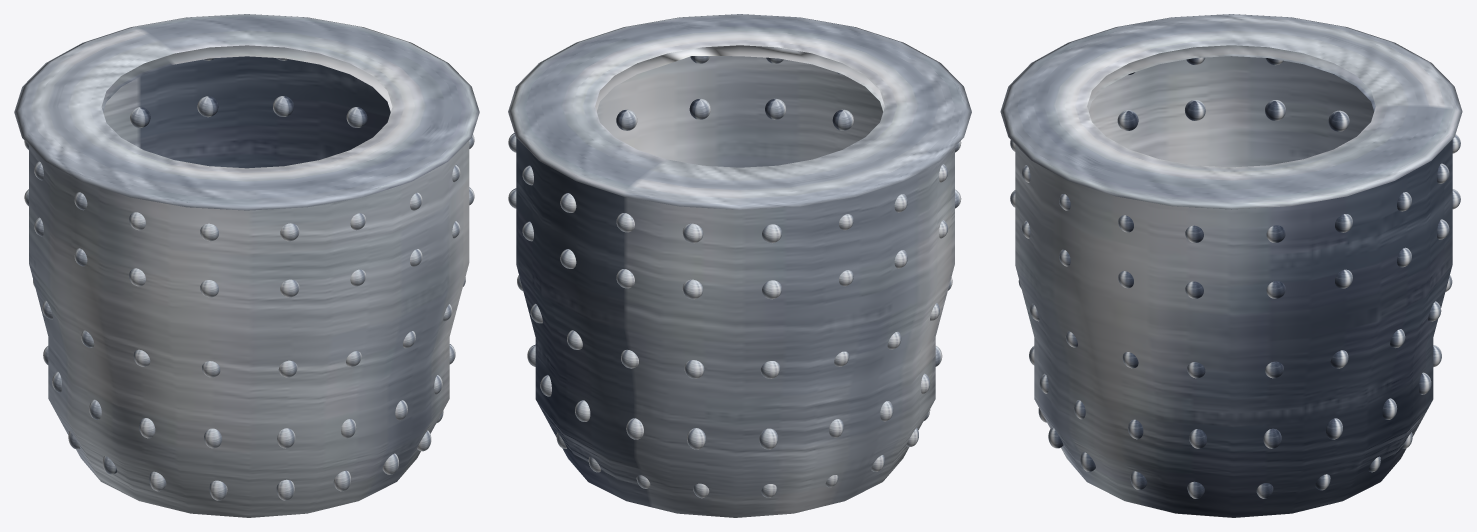
File: thimble.FBX
The picture shows the model from 3 angles, left to right: view 1: azimuth 30°, elevation 25°; view 2: azimuth 150°, elevation 25°; view 3: azimuth 270°, elevation 25°; orthographic projection.
Visible parts, largest first — view 1: Torus001; view 2: Torus001; view 3: Torus001.
Boxes of the visible parts, left/top/right/bottom form: Torus001: left=14, top=14, right=479, bottom=517; Torus001: left=508, top=14, right=971, bottom=517; Torus001: left=1000, top=14, right=1462, bottom=517.
Bounding box in the file's own units: 6.59 × 5.33 × 6.58.
1 material, 1 textured.
